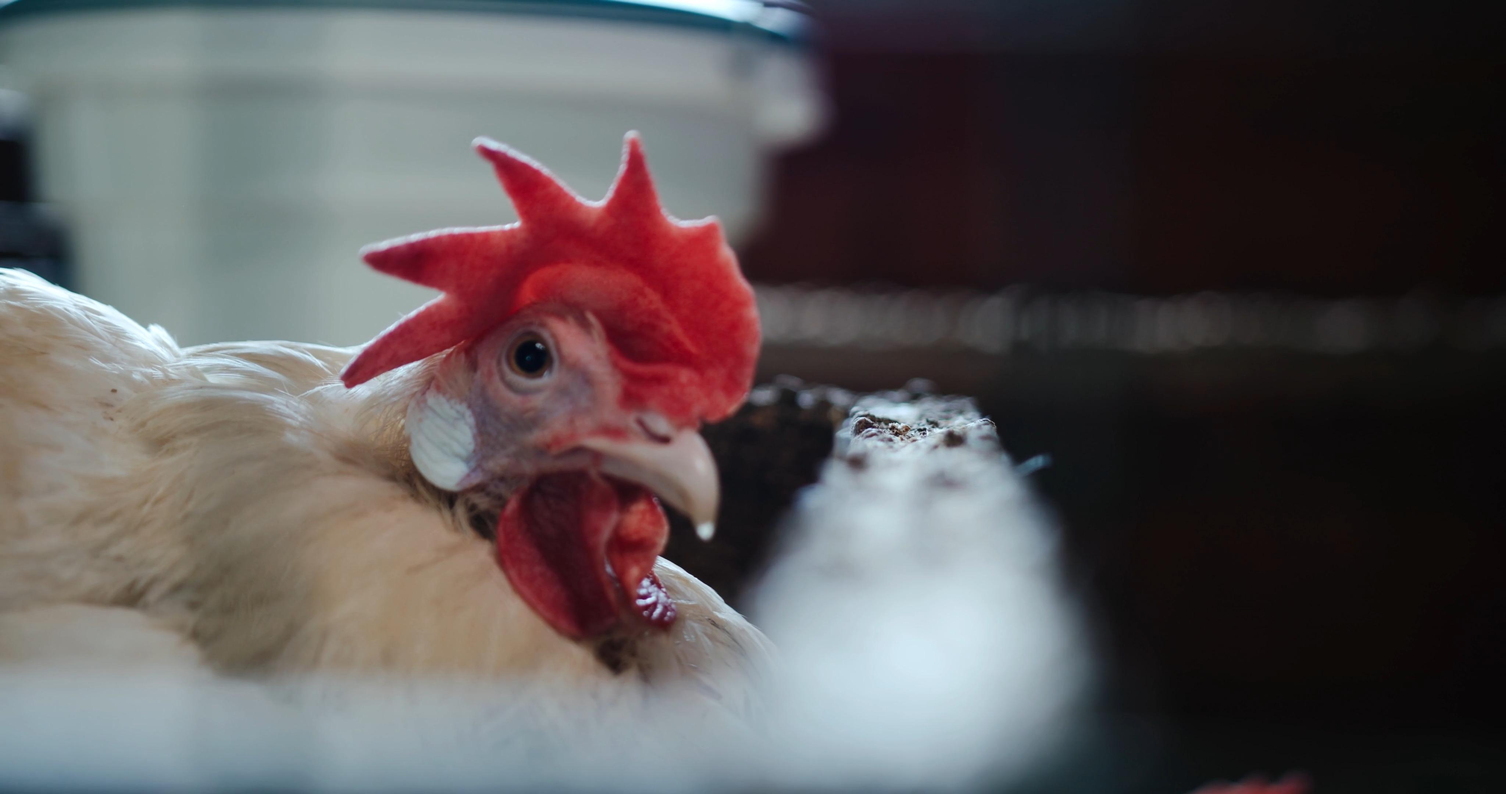Normal: (19, 144, 763, 635)
